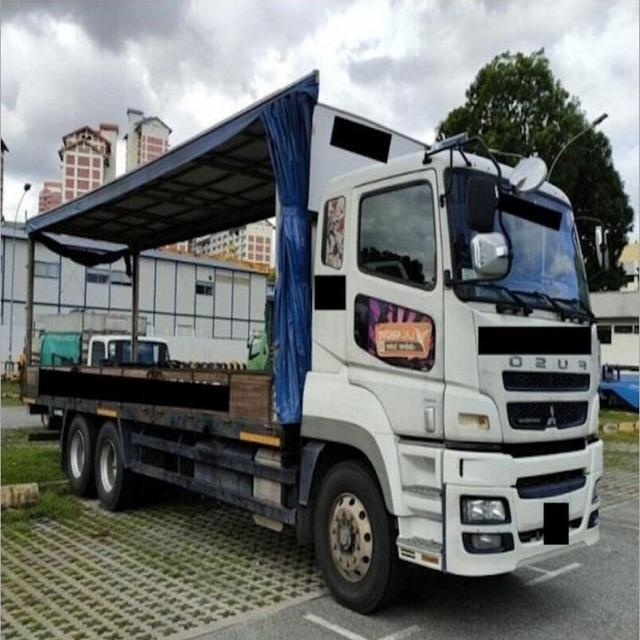truck: (18, 71, 606, 608)
